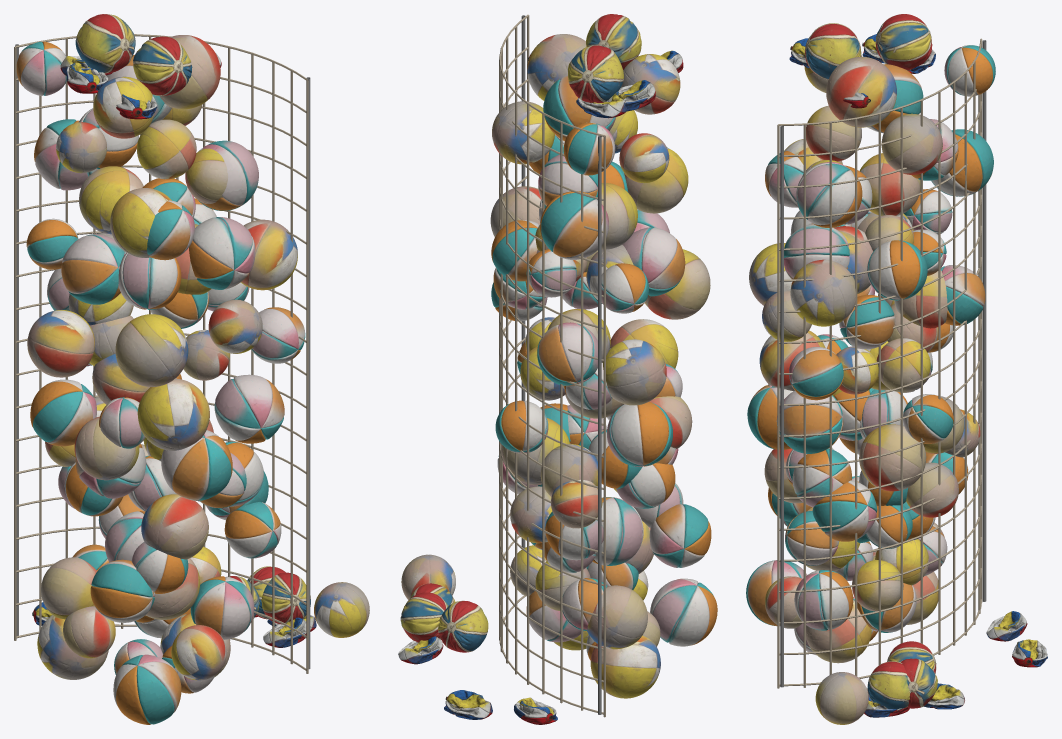
The model's file is angolo_palloni.gltf.
3 views of the same model, side by side, from view 1: azimuth 30°, elevation 25°; view 2: azimuth 150°, elevation 25°; view 3: azimuth 270°, elevation 25° (orthographic). The views are drawn at different scales.
Visible parts, largest first — view 1: pallone_49, pallone_39, pallone_61, pallone_37, pallone_3, pallone_45, pallone_30, pallone_63, pallone_19, pallone_42, pallone_16, pallone_1 (+65 smaller); view 2: pallone_3, pallone_42, pallone_68, pallone_45, pallone_16, pallone_7, pallone_47, pallone_63, pallone_76, pallone_13, pallone_sopra_1, pallone_49 (+61 smaller); view 3: pallone_78, pallone_62, pallone_29, pallone_65, pallone_76, pallone_37, pallone_57, pallone_18, pallone_1, pallone_sopra_1, pallone_46, rete_barra_0 (+78 smaller).
Boxes of the visible parts, x1,y1,x2,y2 form: pallone_49: (115,314,188,386); pallone_39: (137,378,209,450); pallone_61: (189,217,255,289); pallone_37: (214,374,284,443); pallone_3: (113,654,181,724); pallone_45: (27,310,94,377); pallone_30: (161,430,232,500); pallone_63: (61,234,126,304); pallone_19: (141,494,208,559); pallone_42: (30,379,96,446); pallone_16: (90,559,155,622); pallone_1: (190,576,254,639); pallone_3: (650,578,717,646); pallone_42: (607,402,672,466); pallone_68: (540,191,608,259); pallone_45: (602,339,666,405); pallone_16: (649,504,711,567); pallone_7: (590,635,660,698); pallone_47: (537,322,597,386); pallone_63: (622,227,685,296); pallone_76: (492,101,554,164); pallone_13: (587,585,647,649); pallone_sopra_1: (568,45,623,102); pallone_49: (645,249,710,319); pallone_78: (826,56,896,127); pallone_62: (790,259,855,326); pallone_29: (859,424,926,491); pallone_65: (796,162,862,227); pallone_76: (881,113,942,174); pallone_37: (776,391,843,453); pallone_57: (867,240,927,300); pallone_18: (812,480,877,541); pallone_1: (794,570,853,630); pallone_sopra_1: (875,14,932,70); pallone_46: (789,347,843,400); rete_barra_0: (982,40,986,601).
Size of what is drawn, in the model's own units: 5.28 by 11.01 by 4.83.
6 materials, 4 textured.
